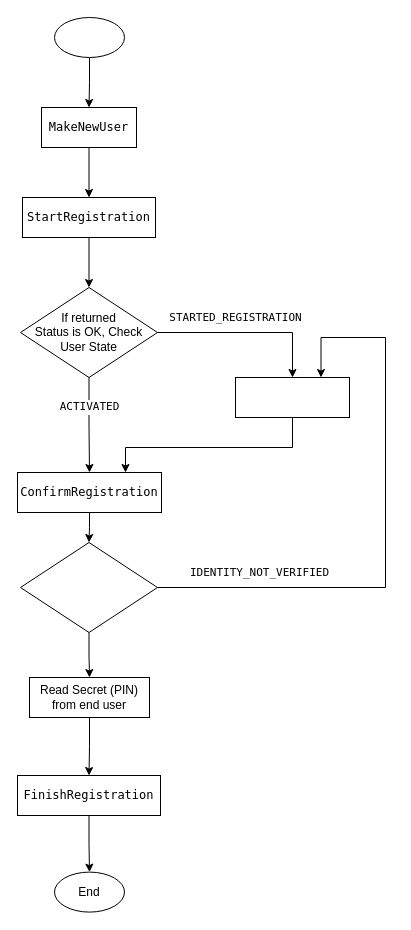
This 411x930 diagram has some shape labels left out. The centre of each missing label's shape, as x and y in pixels:
"Start" goes at (89,37).
"Status?" goes at (89,587).
"Wait for user to confirm identity" goes at (292,397).
